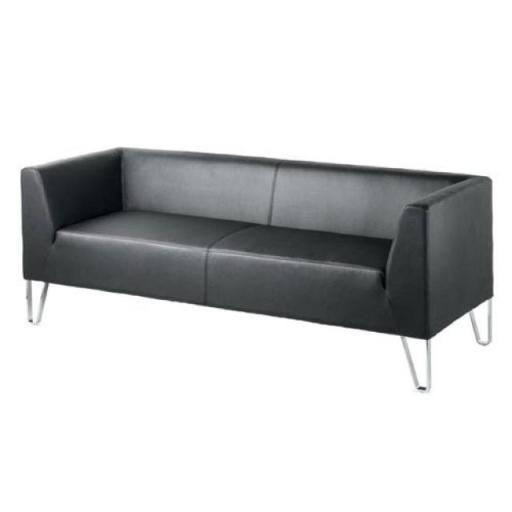sofa: (6, 122, 512, 408)
